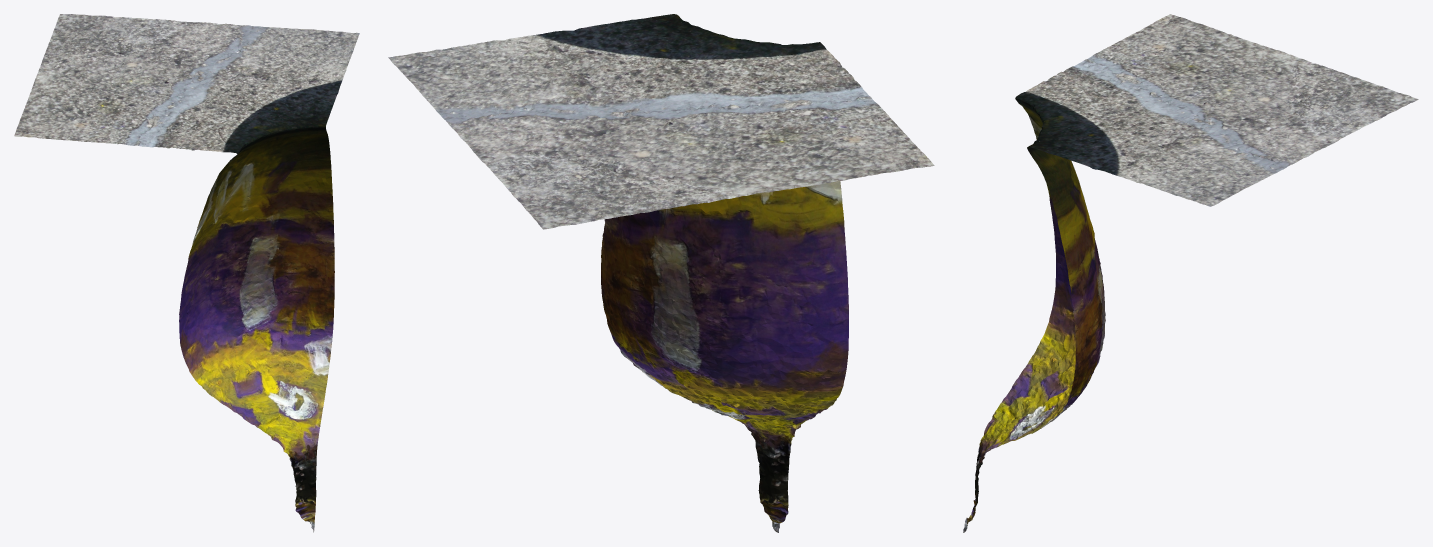
File: tile_1_1.obj
The picture shows the model from 3 angles, left to right: view 1: azimuth 30°, elevation 25°; view 2: azimuth 150°, elevation 25°; view 3: azimuth 270°, elevation 25°; orthographic projection. The views are drawn at different scales.
Parts seen in each view (by area): view 1: texture_0; view 2: texture_0; view 3: texture_0.
Part boxes in pixels (x1,y1,x2,y2): texture_0: (14,14,359,532); texture_0: (388,14,934,532); texture_0: (963,14,1418,532).
Size of the model in its own units: 0.508 by 0.5042 by 0.5055.
1 material, 1 textured.
